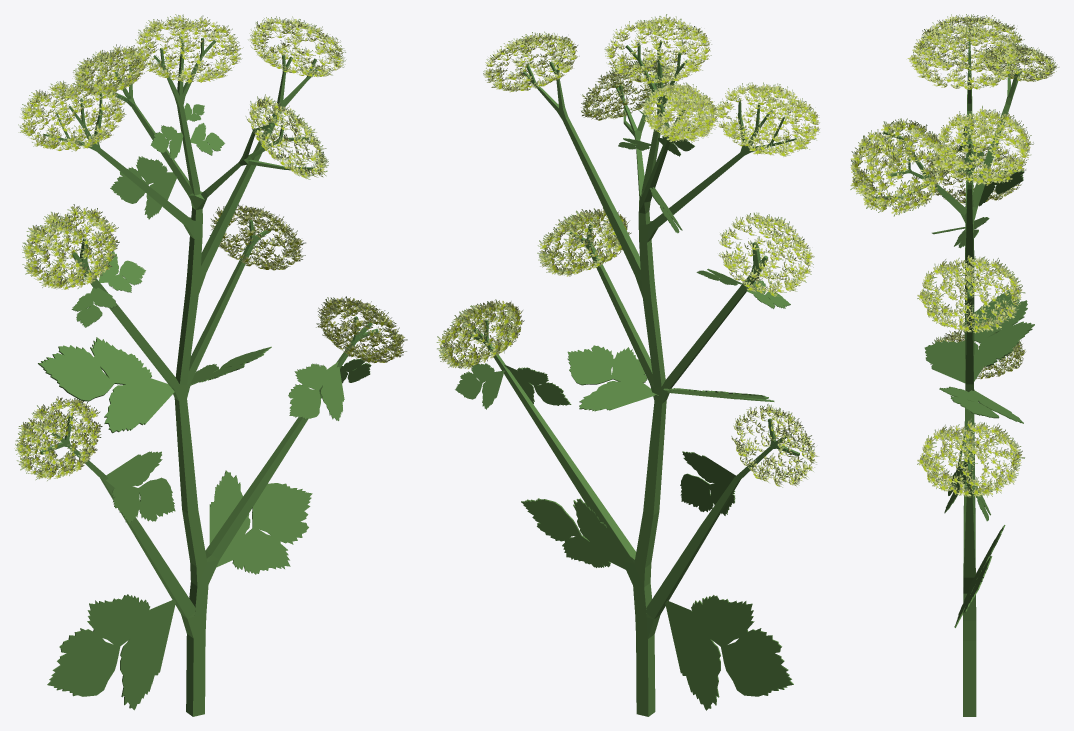
The model's file is alexanders.fbx.
3 renders of one model, left to right at view 1: azimuth 30°, elevation 25°; view 2: azimuth 150°, elevation 25°; view 3: azimuth 270°, elevation 25°, orthographic. The views are drawn at different scales.
Visible parts, largest first — view 1: Cube; view 2: Cube; view 3: Cube.
Part boxes in pixels (bbox=[...]): Cube: bbox=[14, 14, 407, 716]; Cube: bbox=[436, 14, 819, 716]; Cube: bbox=[850, 14, 1059, 716].
Size of the model in its own units: 259 by 460 by 129.
